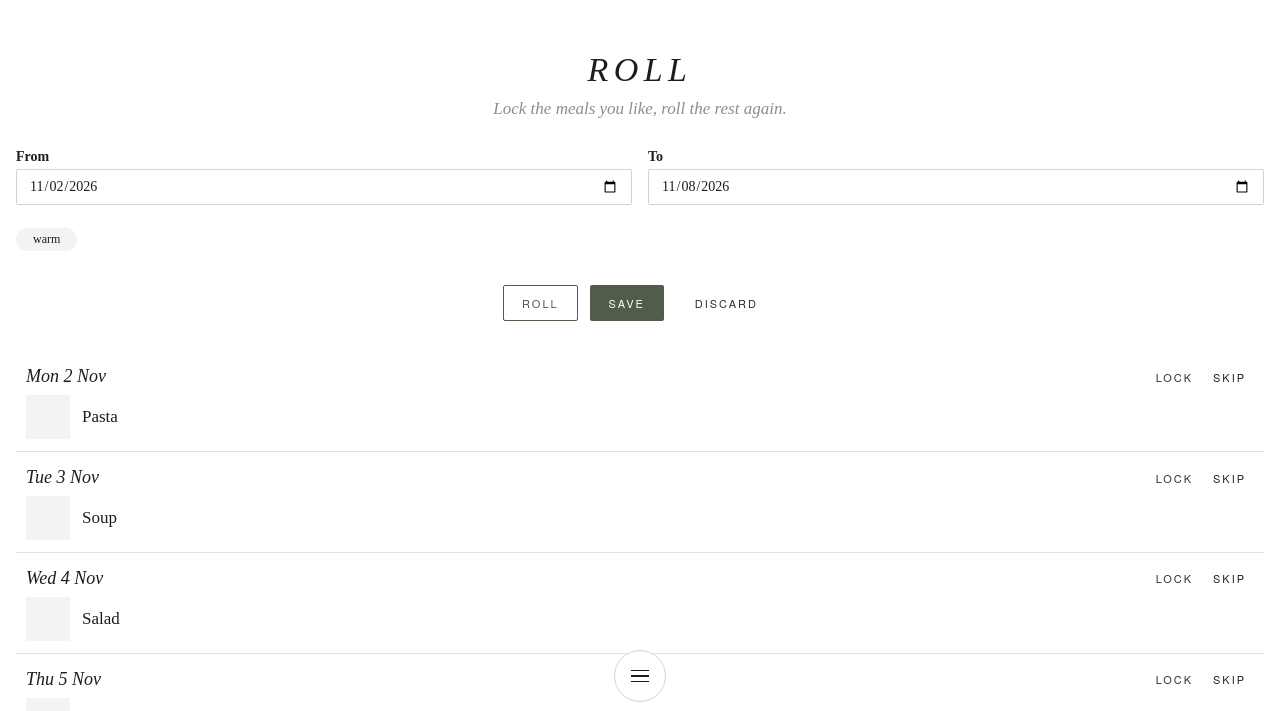
it: an earlier end moves the start back with it
Type "2026-10-30" into the date field labelled "To" at (956, 187), box top-left (648, 169), bottom-right (1264, 205)
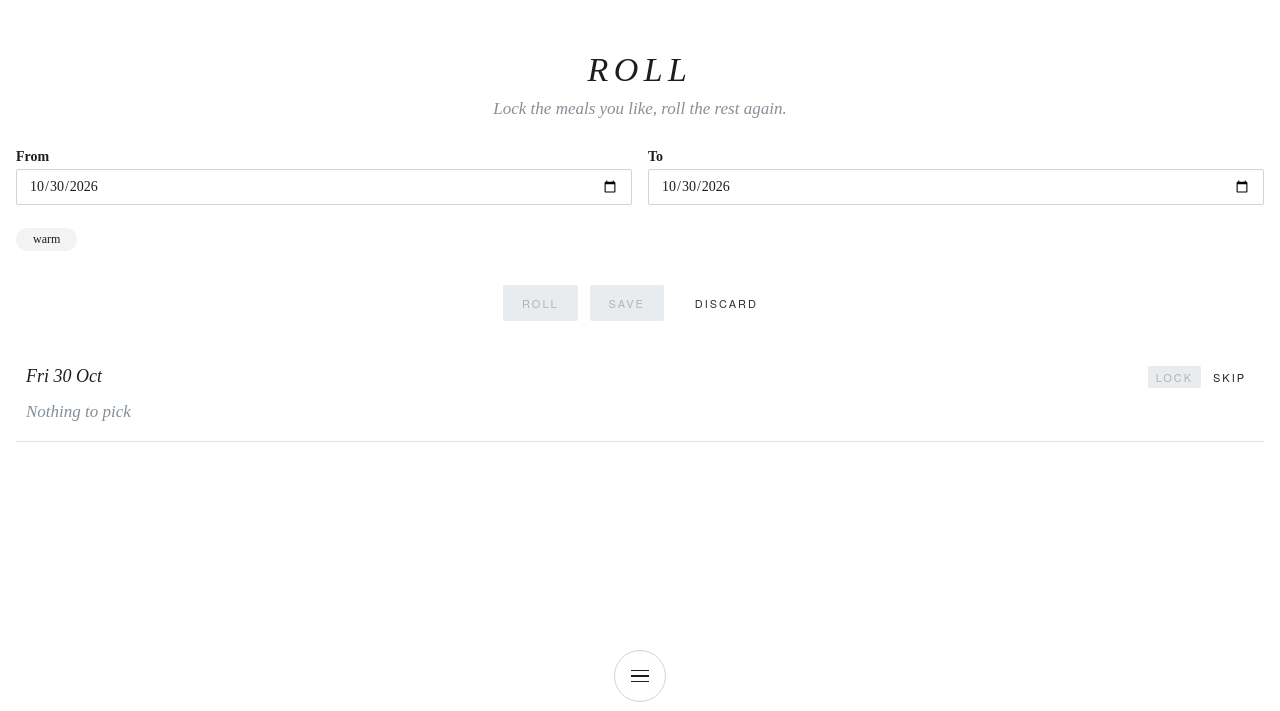
expect the date field labelled "From" holds "2026-10-30": met, box top-left (16, 169), bottom-right (632, 205)
